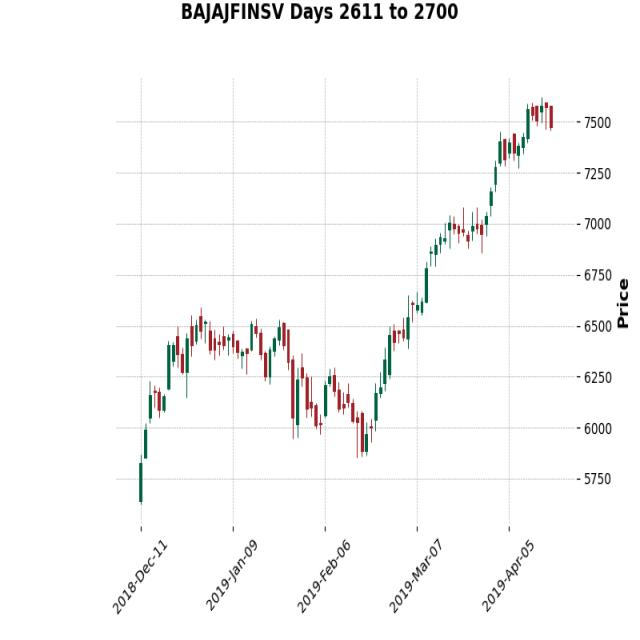Triple Bottom Reversal: (242, 341, 407, 485)
